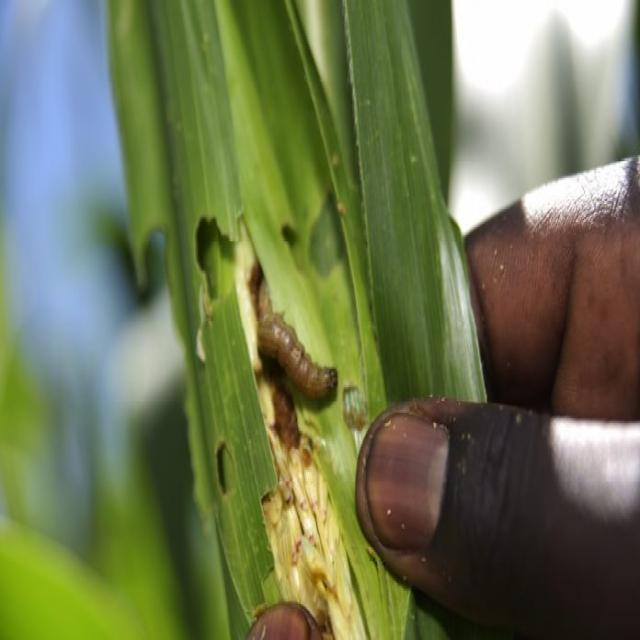worm: (256, 277, 339, 401)
